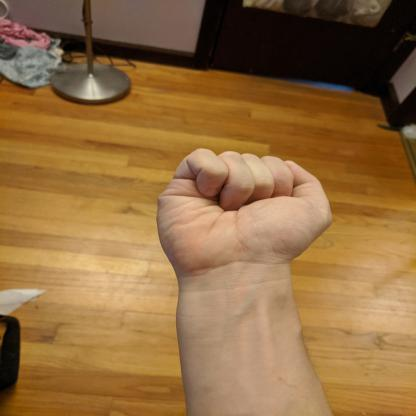A: (150, 144, 341, 282)
